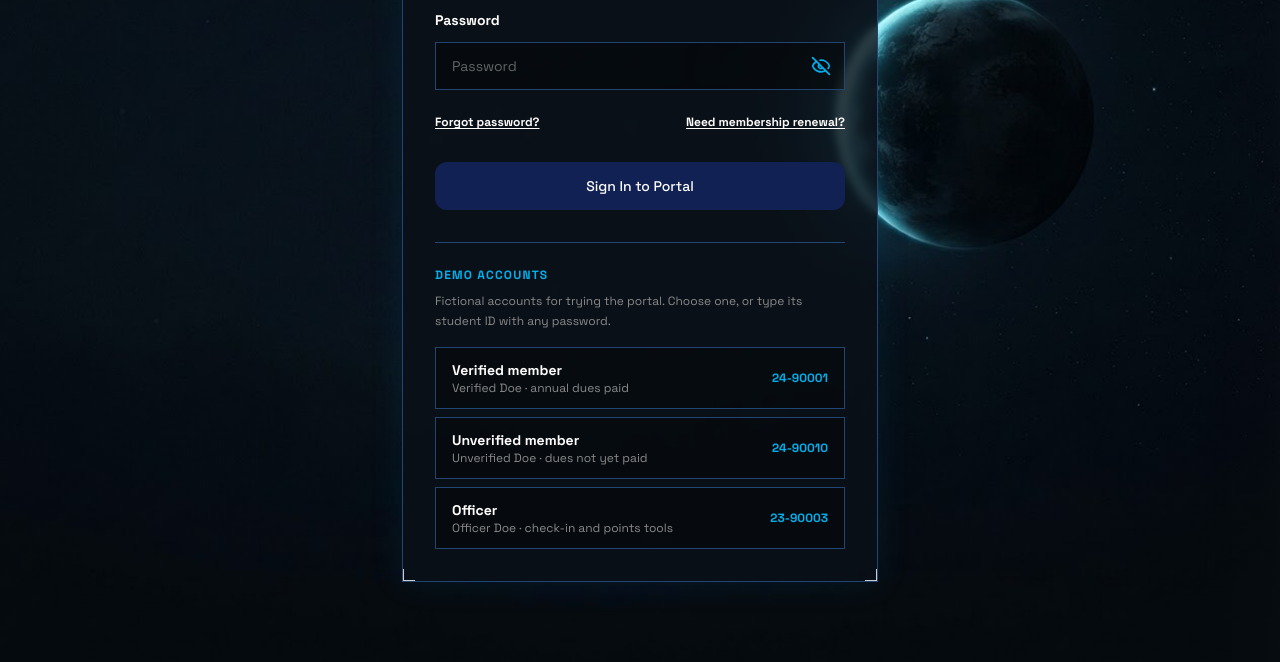
officer points › ignores results from an older search
This screenshot has width=1280, height=662.
(page scrolled)
Click the button "Officer Officer Doe · check-in and points tools 23-90003" at (640, 518), box x1=435 y1=487 x2=845 y2=549
(page scrolled)
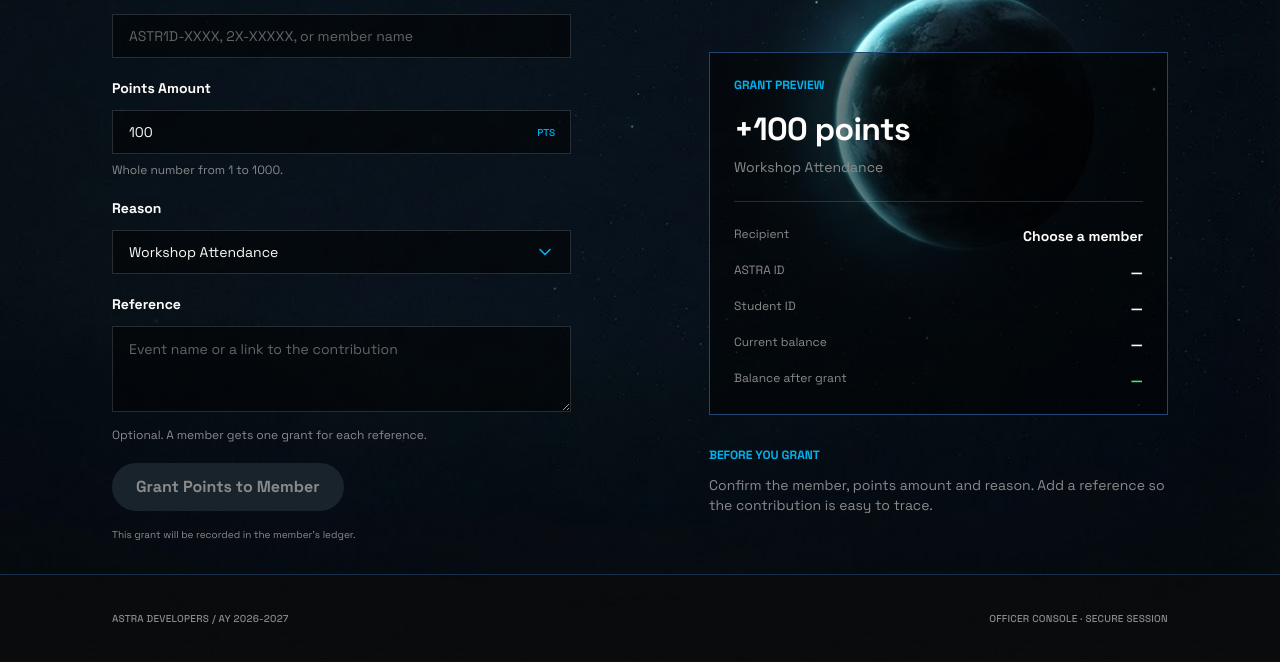
Type "Verified" into the dropdown labelled "Search by ASTRA ID, student ID, or name" at (342, 36), box x1=112 y1=14 x2=571 y2=58
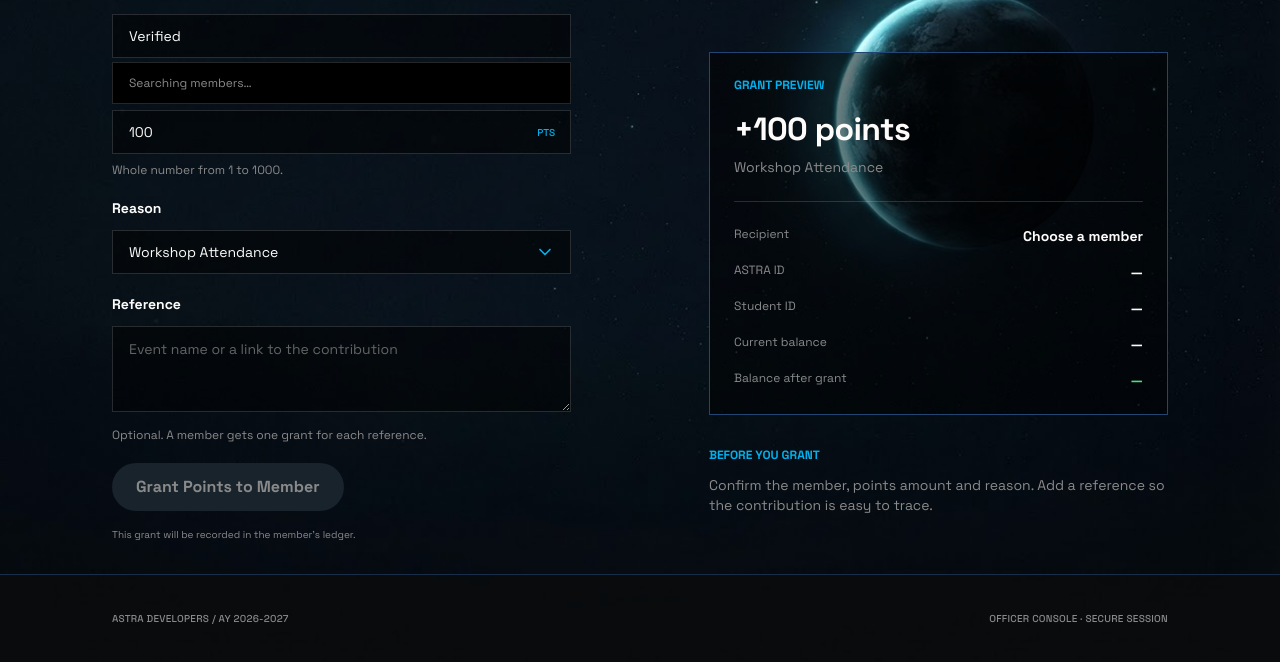
Replace the text in the dropdown labelled "Search by ASTRA ID, student ID, or name" with "Officer" at (342, 36), box x1=112 y1=14 x2=571 y2=58
(page scrolled)
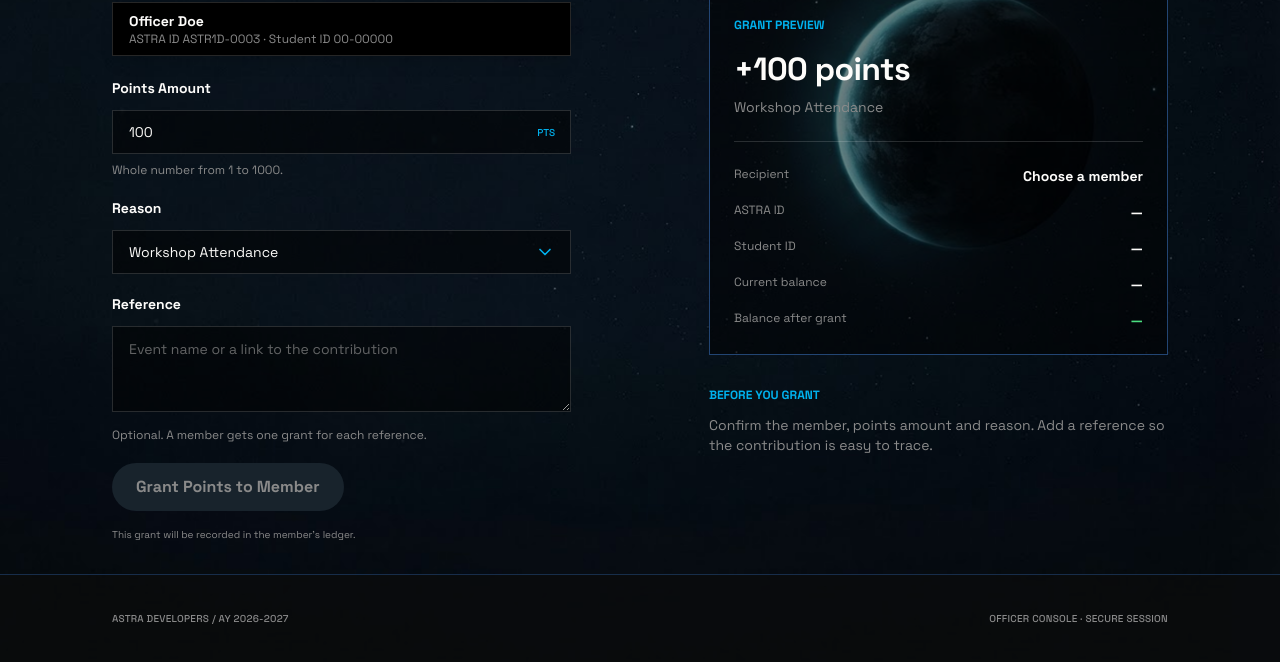
Result: the option "Officer Doe ASTRA ID ASTR1D-0003 · Student ID 00-00000" is shown at x1=129 y1=12 x2=393 y2=47
Result: the text "Showing the first 20 matches" is shown at x1=112 y1=18 x2=571 y2=58
